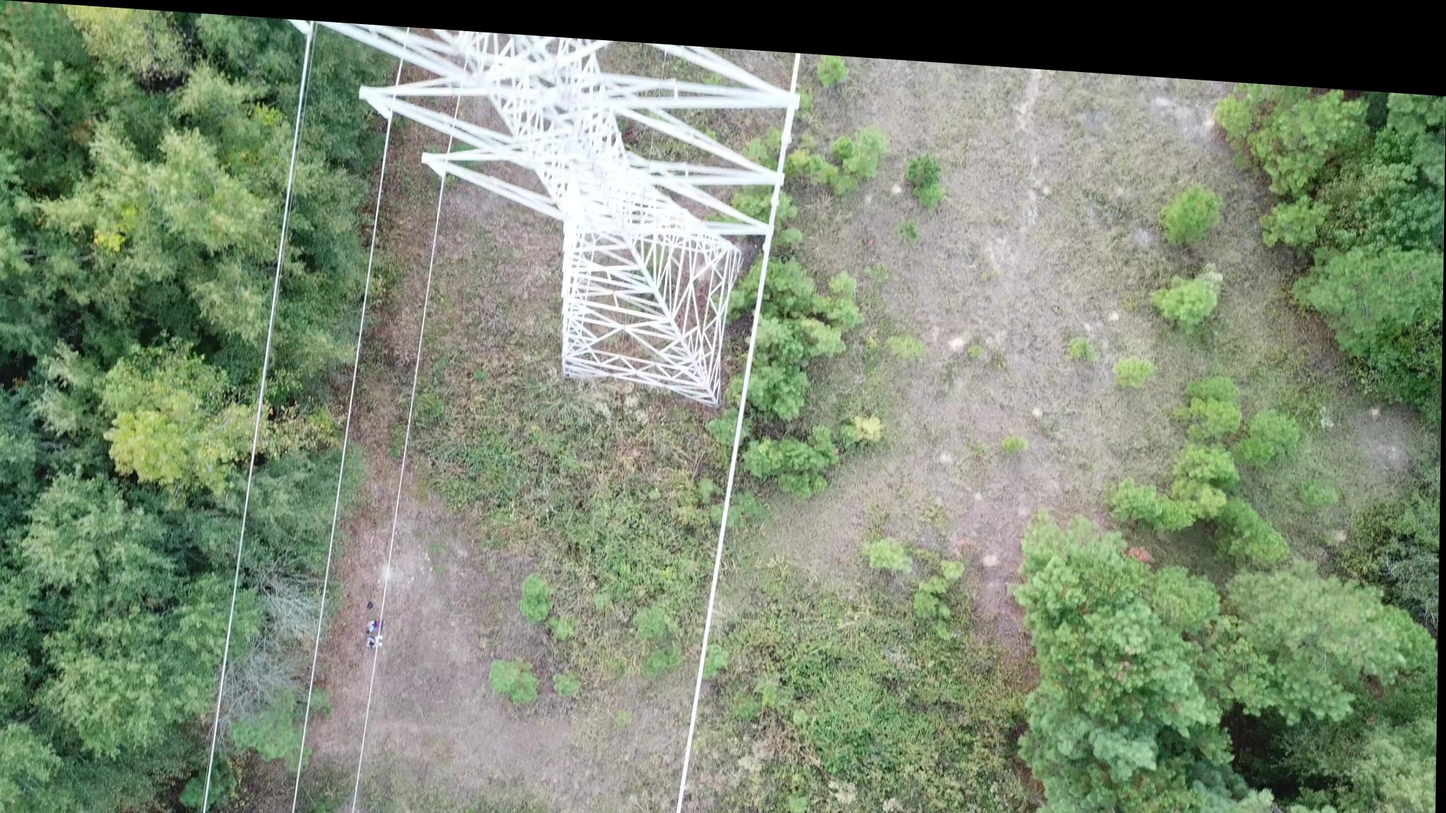tower: (276, 19, 804, 416)
